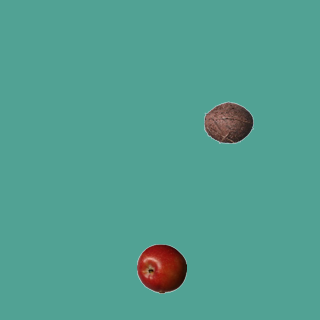Apple Braeburn: (136, 243, 186, 293)
Cocos: (203, 97, 253, 147)
